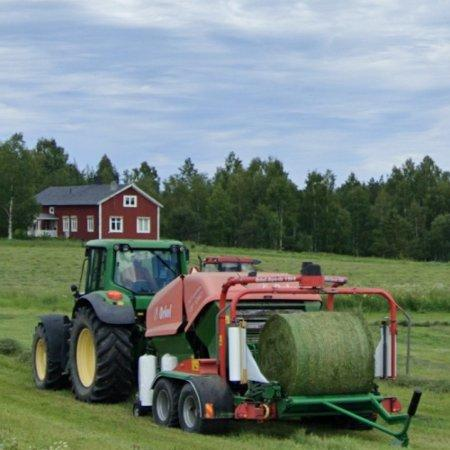tractors: (32, 241, 423, 448)
